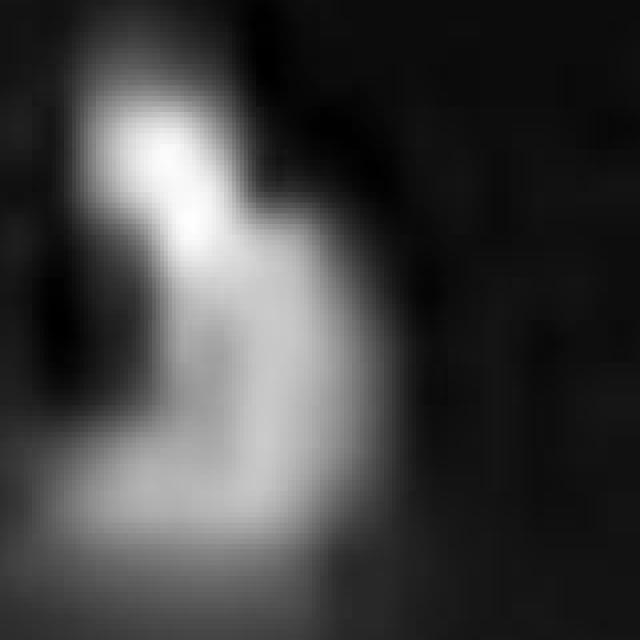person: (38, 5, 421, 593)
